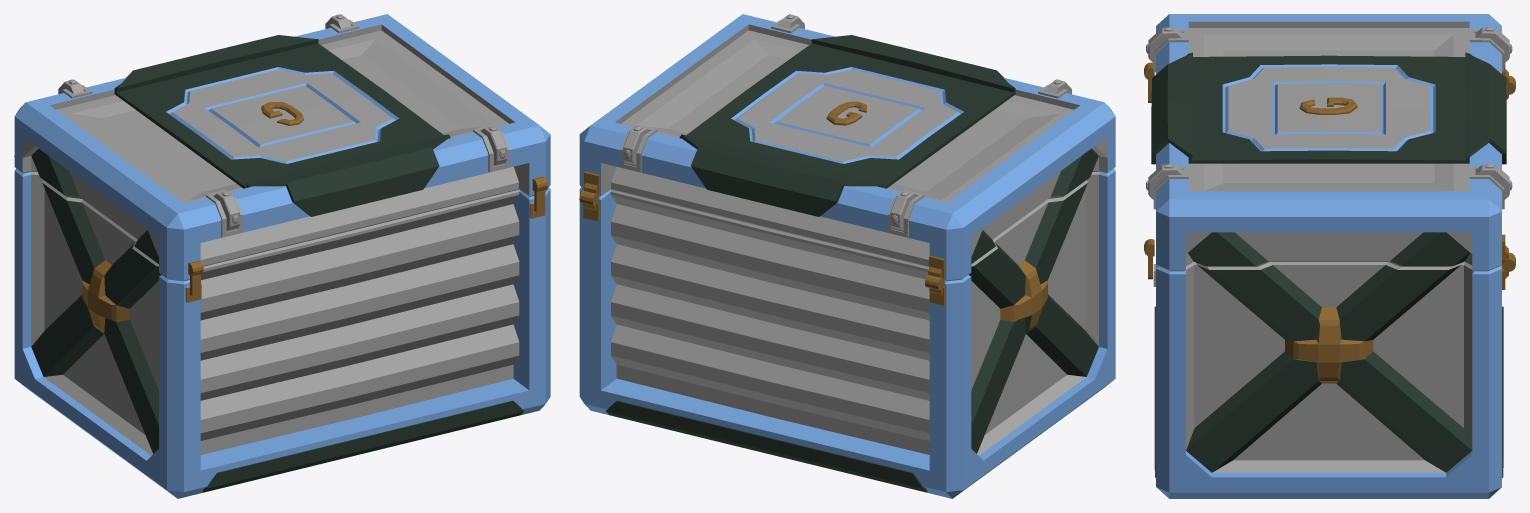
File: chest1.fbx
The picture shows the model from 3 angles, left to right: view 1: azimuth 30°, elevation 25°; view 2: azimuth 150°, elevation 25°; view 3: azimuth 270°, elevation 25°; orthographic projection. The views are drawn at different scales.
Parts seen in each view (by area): view 1: chest2.bottom, chest2 top; view 2: chest2.bottom, chest2 top; view 3: chest2 top, chest2.bottom.
Part boxes in pixels (box(x1,y1,x2,y2)): chest2.bottom: box(14, 156, 550, 498); chest2 top: box(14, 14, 550, 298); chest2.bottom: box(579, 168, 1115, 498); chest2 top: box(579, 14, 1115, 288); chest2 top: box(1144, 14, 1515, 279); chest2.bottom: box(1153, 75, 1515, 498).
Size of the model in its own units: 200 by 147 by 160.
